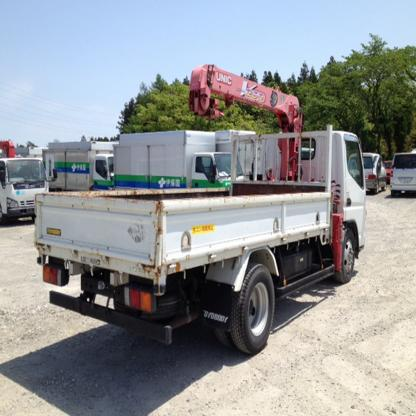truck: (34, 62, 366, 353)
